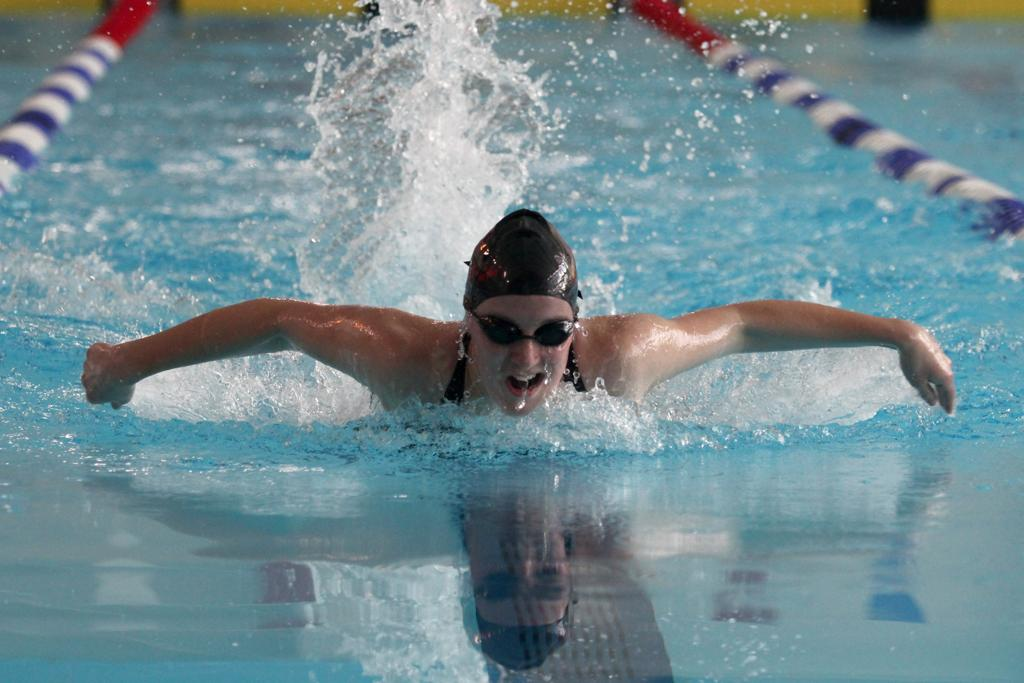face: (476, 284, 574, 416)
